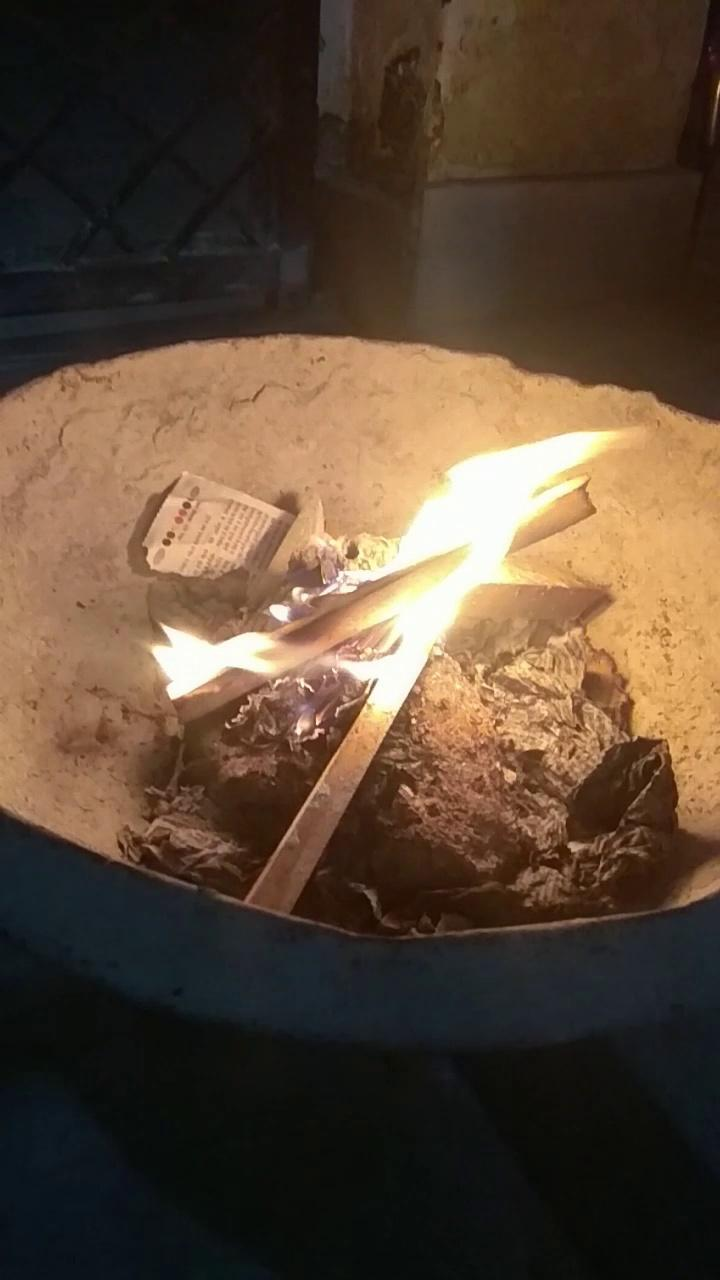fire: (136, 406, 638, 732)
